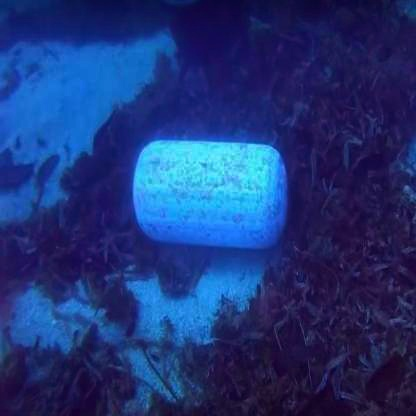can: (108, 136, 313, 267)
